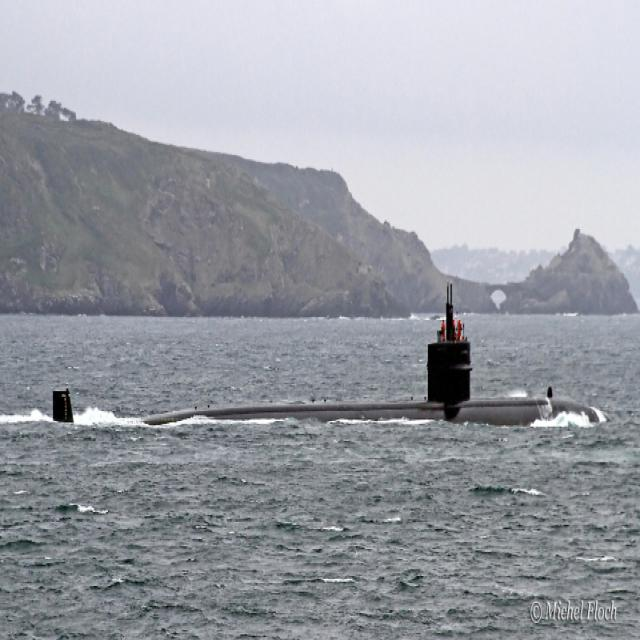submarine: (53, 274, 607, 423)
